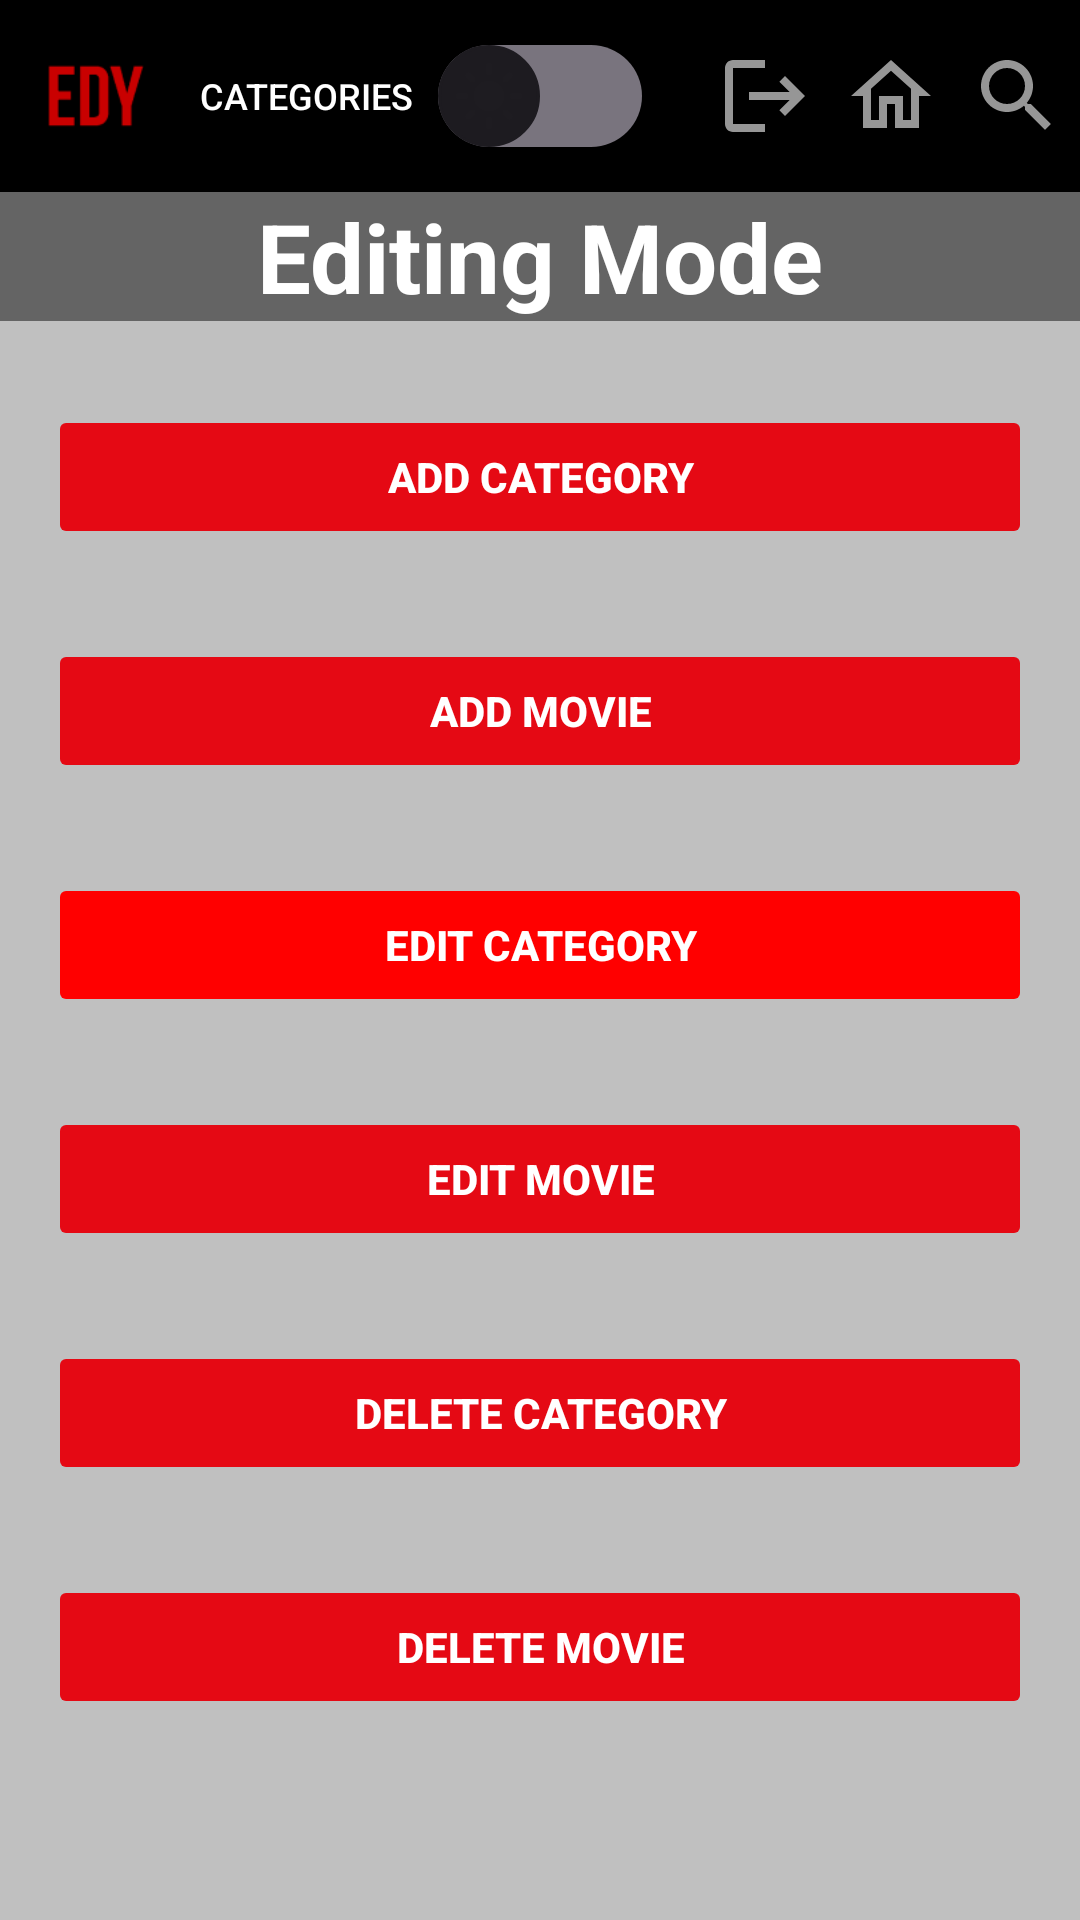

Where icons sit on this 1080px x 1920px app screen, as [x1,y1,x2,y2]:
Home Button: [851,60,931,128]
Search button: [981,60,1051,130]
